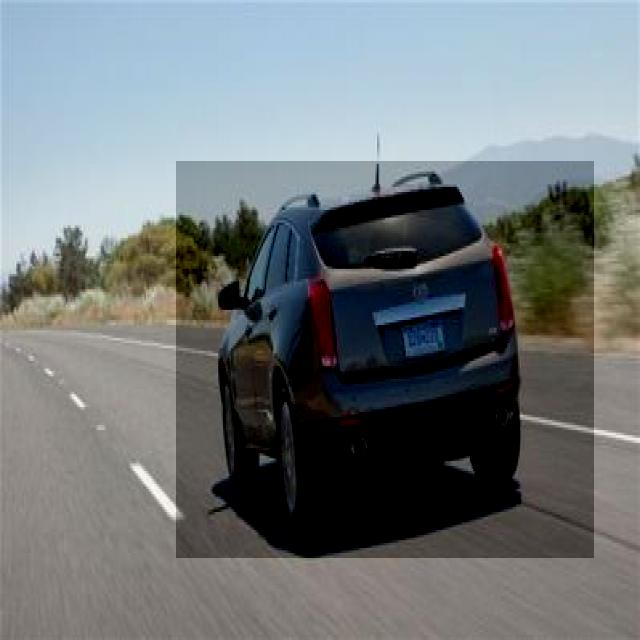Car: (176, 161, 594, 558)
